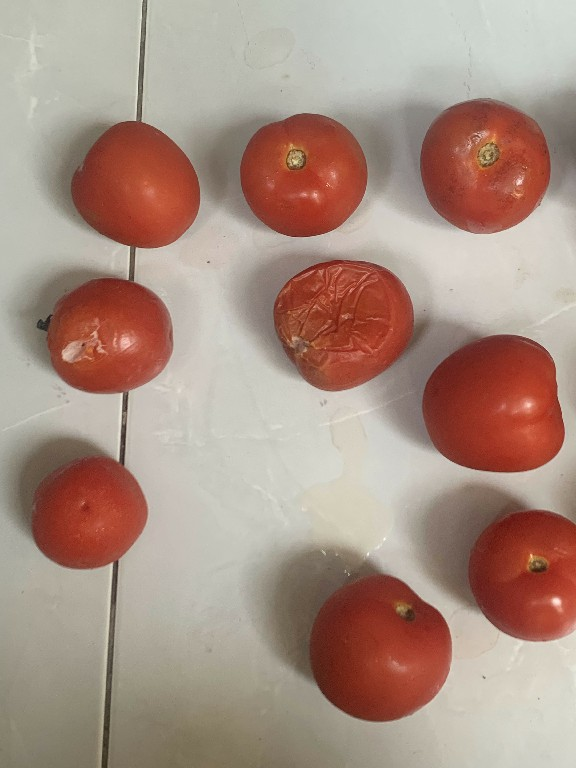NG: (268, 259, 415, 404), (36, 275, 174, 394)
OK: (303, 569, 452, 732), (415, 334, 563, 477), (416, 93, 557, 239), (60, 116, 206, 248), (242, 109, 370, 241), (28, 451, 152, 576), (466, 506, 576, 646)
